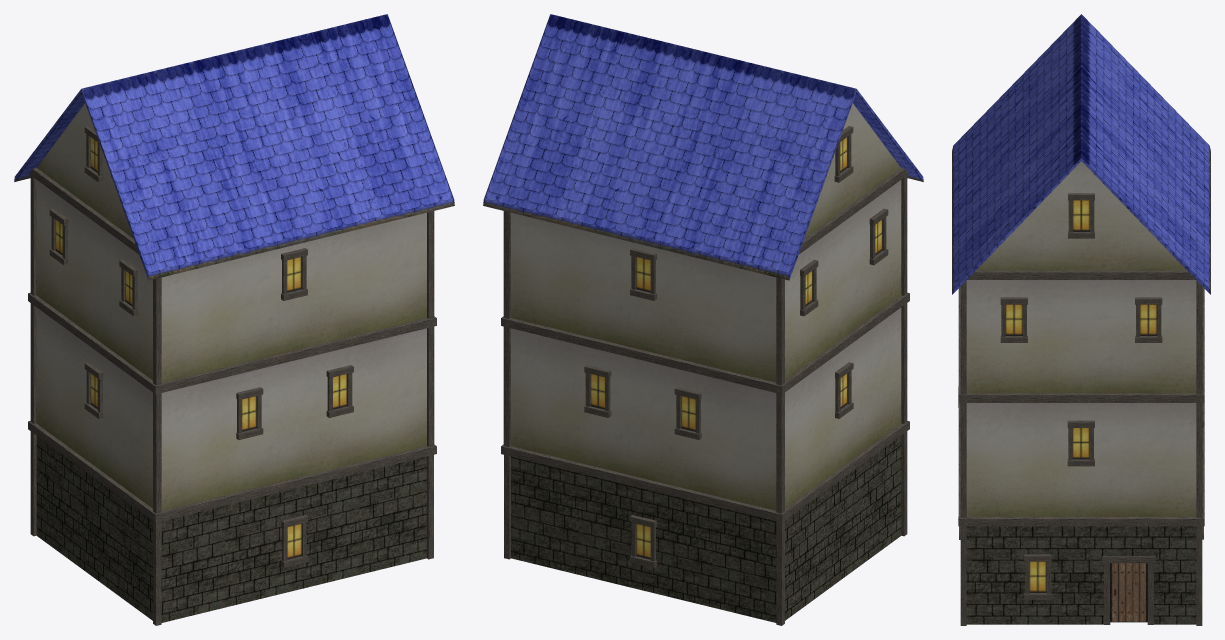
The model's file is House02a.obj.
3 renders of one model, left to right at view 1: azimuth 30°, elevation 25°; view 2: azimuth 150°, elevation 25°; view 3: azimuth 270°, elevation 25°, orthographic. The views are drawn at different scales.
Parts seen in each view (by area): view 1: polySurface38; view 2: polySurface38; view 3: polySurface38.
Boxes of the visible parts, x1=… form: polySurface38: x1=14, y1=14, x2=454, y2=625; polySurface38: x1=483, y1=14, x2=923, y2=625; polySurface38: x1=952, y1=14, x2=1210, y2=625.
Size of the model in its own units: 20.27 by 31.25 by 15.42.
1 material, 1 textured.
